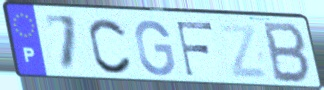7: (42, 12, 80, 75)
B: (262, 20, 313, 87)
C: (87, 16, 135, 77)
F: (174, 20, 215, 78)
G: (133, 18, 178, 78)
Z: (217, 22, 271, 81)
